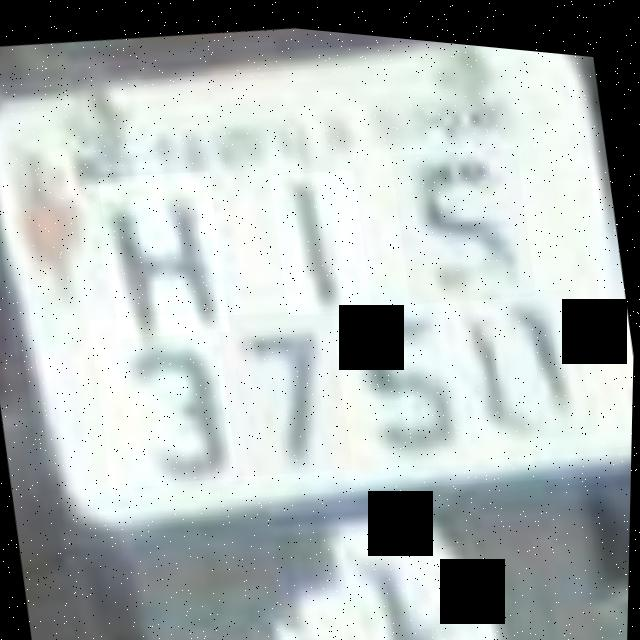1: (480, 270, 597, 437)
3: (87, 296, 255, 497)
5: (326, 279, 479, 461)
7: (215, 294, 357, 480)
H: (96, 158, 235, 344)
I: (267, 157, 376, 317)
S: (388, 128, 540, 305)
